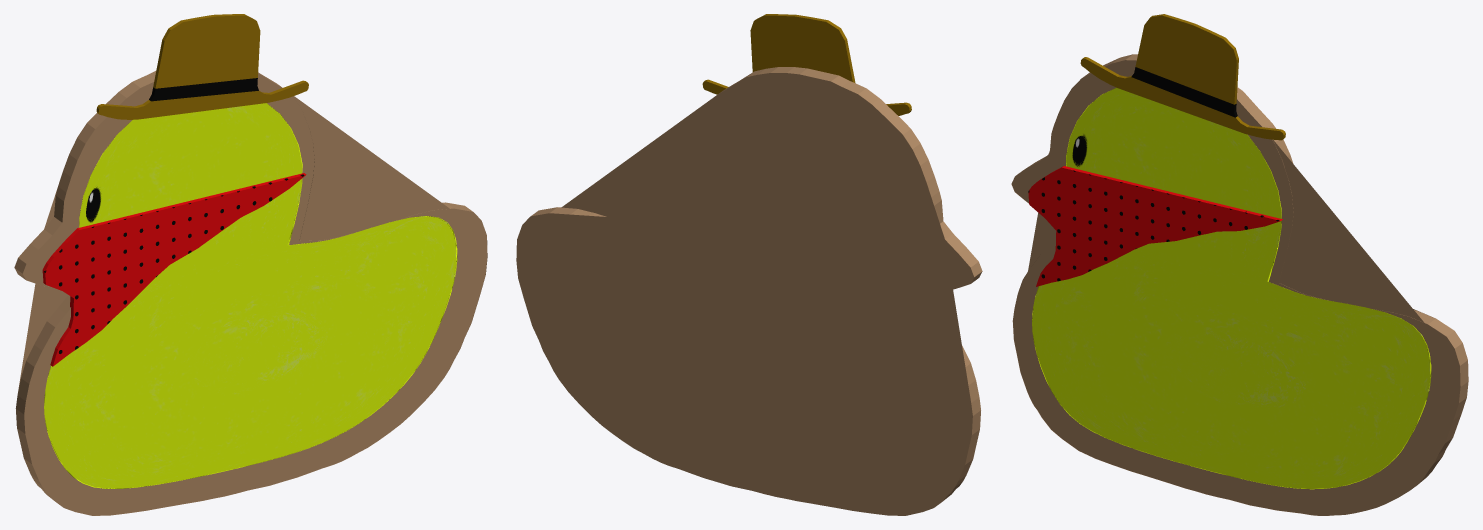
Rendered from bandido.fbx.
The picture shows the model from 3 angles, left to right: view 1: azimuth 30°, elevation 25°; view 2: azimuth 150°, elevation 25°; view 3: azimuth 330°, elevation 25°; orthographic projection. The views are drawn at different scales.
Parts seen in each view (by area): view 1: Carton, Bandana, Cube, Puntos; view 2: Carton, Cube; view 3: Carton, Bandana, Cube, Puntos.
Part boxes in pixels (bbox=[...]): Carton: bbox=[14, 71, 487, 515]; Bandana: bbox=[42, 173, 306, 366]; Cube: bbox=[96, 14, 308, 119]; Puntos: bbox=[44, 174, 304, 353]; Carton: bbox=[516, 67, 982, 515]; Cube: bbox=[702, 14, 911, 115]; Carton: bbox=[1011, 54, 1468, 515]; Bandana: bbox=[1028, 166, 1282, 286]; Cube: bbox=[1080, 14, 1285, 140]; Puntos: bbox=[1028, 170, 1279, 281].
Size of the model in its own units: 144 by 144 by 5.83.
